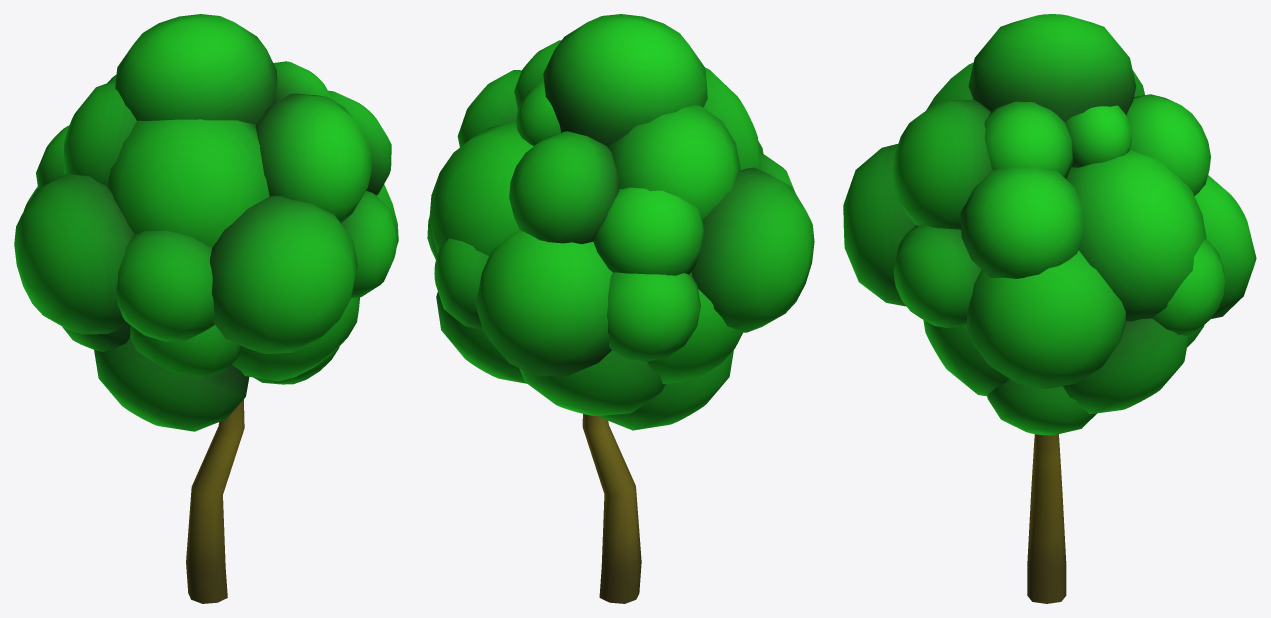
The model's file is TreeFBX.fbx.
The picture shows the model from 3 angles, left to right: view 1: azimuth 30°, elevation 25°; view 2: azimuth 150°, elevation 25°; view 3: azimuth 270°, elevation 25°; orthographic projection.
Parts seen in each view (by area): view 1: Circle.014; view 2: Circle.014; view 3: Circle.014.
Boxes of the visible parts, x1,y1,x2,y2 form: Circle.014: (14, 14, 398, 603); Circle.014: (427, 14, 814, 603); Circle.014: (843, 14, 1256, 603).
Bounding box in the file's own units: 1154 × 1778 × 1167.
